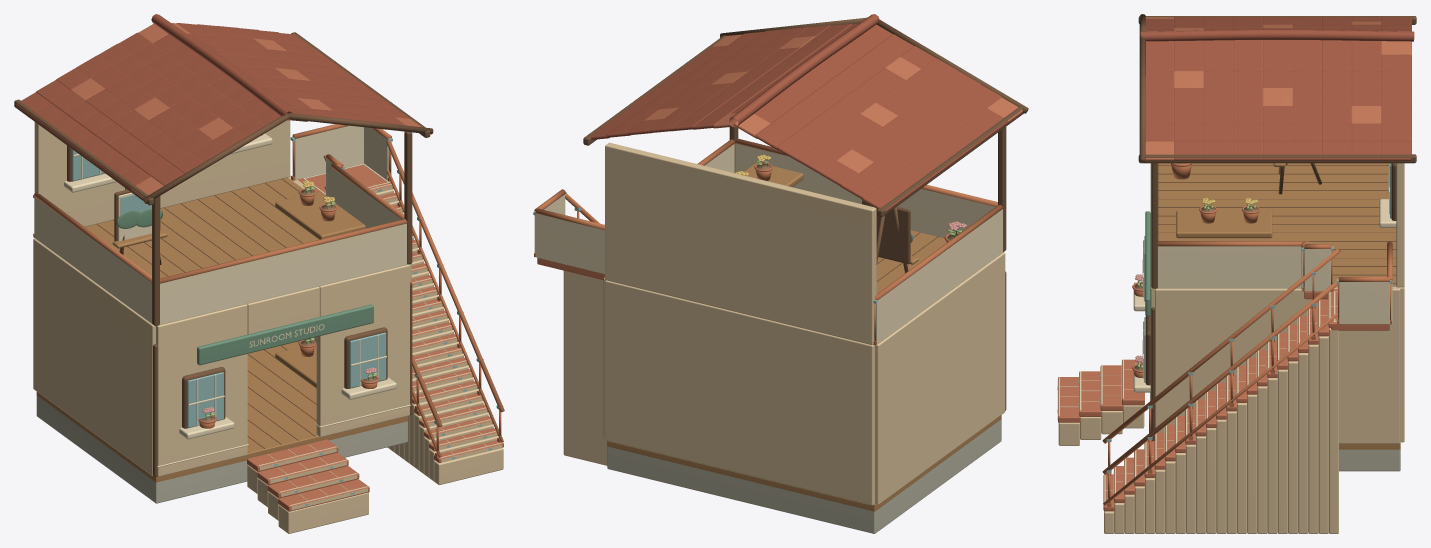
The model's file is artist-house.glb.
3 views of the same model, side by side, from view 1: azimuth 30°, elevation 25°; view 2: azimuth 150°, elevation 25°; view 3: azimuth 270°, elevation 25° (orthographic). The views are drawn at different scales.
Parts seen in each view (by area): view 1: artist-house_Architecture_Mesh, artist-house_Upper_Mesh, artist-house_Roof_Mesh, artist-house_Front_Mesh, artist-house_Floor_upper_Mesh, artist-house_Floor_ground_Mesh, Studio easel.001_Mesh, Detail.144, Detail.148, Detail.146, Detail.142, artist-house_FrontBase_Mesh (+1 smaller); view 2: artist-house_Architecture_Mesh, artist-house_Upper_Mesh, artist-house_Roof_Mesh, artist-house_Floor_ground_Mesh, Studio easel.001_Mesh, artist-house_Floor_upper_Mesh; view 3: artist-house_Architecture_Mesh, artist-house_Roof_Mesh, artist-house_Floor_upper_Mesh, artist-house_Upper_Mesh, artist-house_Front_Mesh, Detail.146, Detail.144, Detail.142, Detail.148, Detail.016.
Part boxes in pixels (x1,y1,x2,y2): artist-house_Architecture_Mesh: [33, 140, 504, 533]; artist-house_Upper_Mesh: [33, 120, 412, 326]; artist-house_Roof_Mesh: [14, 14, 433, 205]; artist-house_Front_Mesh: [156, 264, 409, 476]; artist-house_Floor_upper_Mesh: [85, 177, 318, 278]; artist-house_Floor_ground_Mesh: [36, 341, 407, 482]; Studio easel.001_Mesh: [112, 188, 167, 264]; Detail.144: [267, 466, 359, 498]; Detail.148: [247, 439, 338, 471]; Detail.146: [257, 452, 348, 485]; Detail.142: [278, 479, 369, 511]; artist-house_FrontBase_Mesh: [157, 404, 410, 474]; artist-house_Architecture_Mesh: [563, 193, 1006, 533]; artist-house_Upper_Mesh: [533, 127, 1006, 345]; artist-house_Roof_Mesh: [583, 14, 1028, 217]; artist-house_Floor_ground_Mesh: [607, 415, 1001, 511]; Studio easel.001_Mesh: [862, 200, 918, 273]; artist-house_Floor_upper_Mesh: [876, 230, 946, 293]; artist-house_Architecture_Mesh: [1057, 248, 1404, 533]; artist-house_Roof_Mesh: [1138, 14, 1416, 163]; artist-house_Floor_upper_Mesh: [1158, 163, 1396, 286]; artist-house_Upper_Mesh: [1151, 163, 1404, 324]; artist-house_Front_Mesh: [1133, 163, 1154, 400]; Detail.146: [1100, 365, 1123, 410]; Detail.144: [1079, 371, 1101, 416]; Detail.142: [1058, 377, 1080, 422]; Detail.148: [1122, 359, 1144, 405]; Detail.016: [1331, 291, 1389, 330].
Size of the model in its own units: 7.63 by 8.38 by 6.72.
